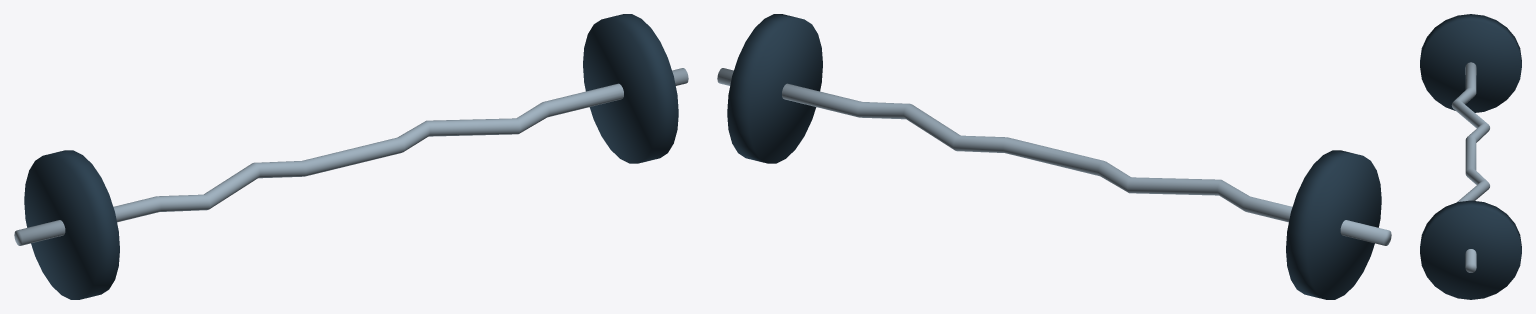
Rendered from ez_bar_shared_b.glb.
The picture shows the model from 3 angles, left to right: view 1: azimuth 30°, elevation 25°; view 2: azimuth 150°, elevation 25°; view 3: azimuth 270°, elevation 25°; orthographic projection. The views are drawn at different scales.
Parts seen in each view (by area): view 1: plates, zigzag_shaft; view 2: plates, zigzag_shaft; view 3: plates, zigzag_shaft.
Part boxes in pixels (bbox=[...]): plates: bbox=[24, 14, 678, 299]; zigzag_shaft: bbox=[14, 68, 688, 245]; plates: bbox=[727, 14, 1381, 299]; zigzag_shaft: bbox=[717, 68, 1391, 245]; plates: bbox=[1420, 14, 1521, 299]; zigzag_shaft: bbox=[1451, 62, 1489, 272].
Bounding box in the file's own units: 1.24 × 0.24 × 0.24.
